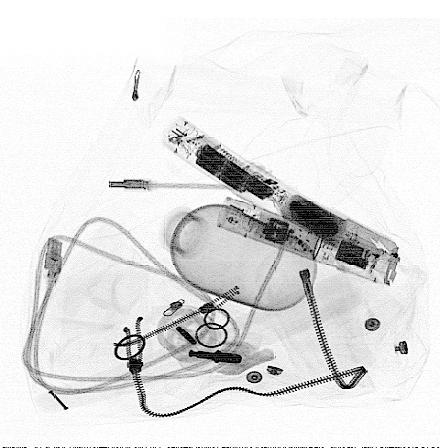Baton: (161, 115, 399, 273), (216, 196, 401, 288)
